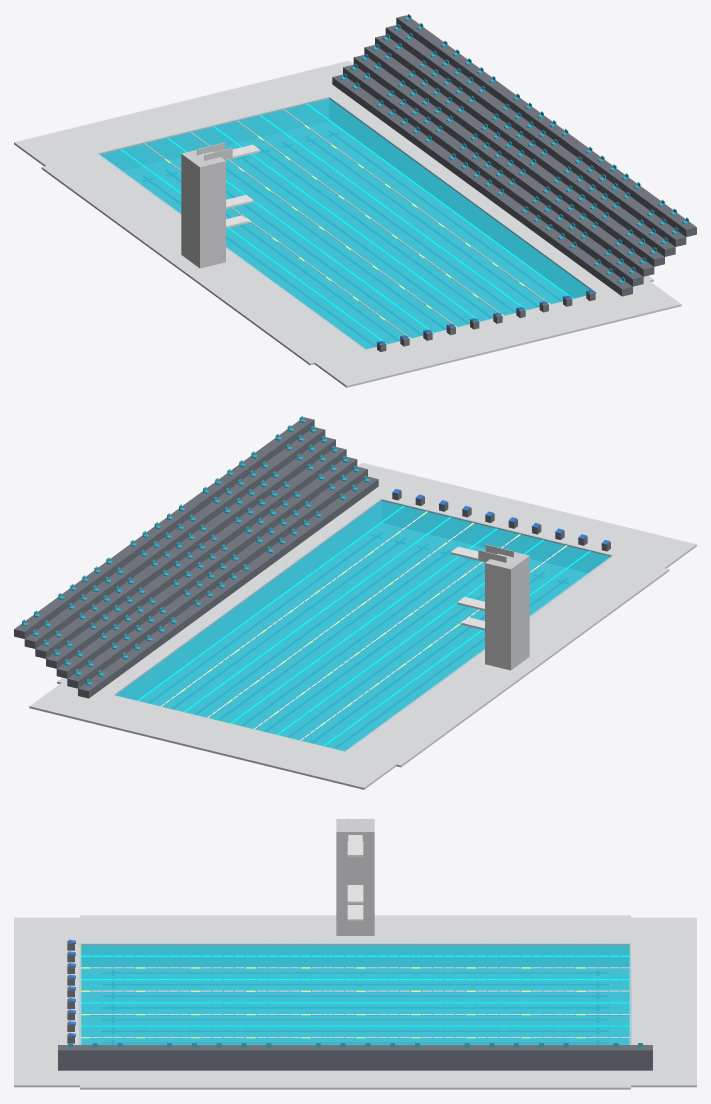
Rendered from dynamic_field_swimming.glb.
The picture shows the model from 3 angles, top to bottom: view 1: azimuth 30°, elevation 25°; view 2: azimuth 150°, elevation 25°; view 3: azimuth 270°, elevation 25°; orthographic projection. The views are drawn at different scales.
Parts seen in each view (by area): view 1: Pool_WaterSurface, Pool_TileBasin, Pool_DeckSurround, Aquatic_Bleachers, DivingTower_Concrete, Aquatic_Seats, LaneRopes_Cyan, Pool_FloorLaneStripes, LaneRopes_White, StartingBlocks_Base, DivingBoards_White; view 2: Pool_WaterSurface, Pool_TileBasin, Pool_DeckSurround, Aquatic_Bleachers, DivingTower_Concrete, Aquatic_Seats, LaneRopes_Cyan, Pool_FloorLaneStripes, LaneRopes_White, DivingBoards_White, StartingBlocks_Base; view 3: Pool_WaterSurface, Pool_DeckSurround, Pool_TileBasin, Aquatic_Bleachers, LaneRopes_Cyan, DivingTower_Concrete, LaneRopes_White, Pool_FloorLaneStripes, DivingBoards_White, LaneRopes_Gold, StartingBlocks_Base, Aquatic_Seats.
Part boxes in pixels (x1,y1,x2,y2): Pool_WaterSurface: (100,99,590,349); Pool_TileBasin: (97,96,597,349); Pool_DeckSurround: (14,60,681,387); Aquatic_Bleachers: (332,15,696,296); DivingTower_Concrete: (181,142,232,268); Aquatic_Seats: (340,14,688,283); LaneRopes_Cyan: (120,103,573,344); Pool_FloorLaneStripes: (143,131,561,346); LaneRopes_White: (144,109,546,335); StartingBlocks_Base: (377,292,595,351); DivingBoards_White: (225,144,260,228); Pool_WaterSurface: (116,501,610,751); Pool_TileBasin: (113,499,613,751); Pool_DeckSurround: (29,462,696,789); Aquatic_Bleachers: (14,417,378,698); DivingTower_Concrete: (478,544,529,670); Aquatic_Seats: (22,416,370,685); LaneRopes_Cyan: (137,505,590,746); Pool_FloorLaneStripes: (149,533,567,748); LaneRopes_White: (161,515,561,740); DivingBoards_White: (450,546,485,630); StartingBlocks_Base: (392,491,610,551); Pool_WaterSurface: (81,945,629,1044); Pool_DeckSurround: (14,915,696,1089); Pool_TileBasin: (79,943,631,1044); Aquatic_Bleachers: (58,1045,652,1070); LaneRopes_Cyan: (81,955,629,1026); DivingTower_Concrete: (336,818,374,935); LaneRopes_White: (91,967,629,1038); Pool_FloorLaneStripes: (102,971,608,1044); DivingBoards_White: (347,835,363,921); LaneRopes_Gold: (81,967,586,1038); StartingBlocks_Base: (67,941,74,1043); Aquatic_Seats: (68,1043,642,1047).
Size of the model in its own units: 40.48 by 13.6 by 62.
